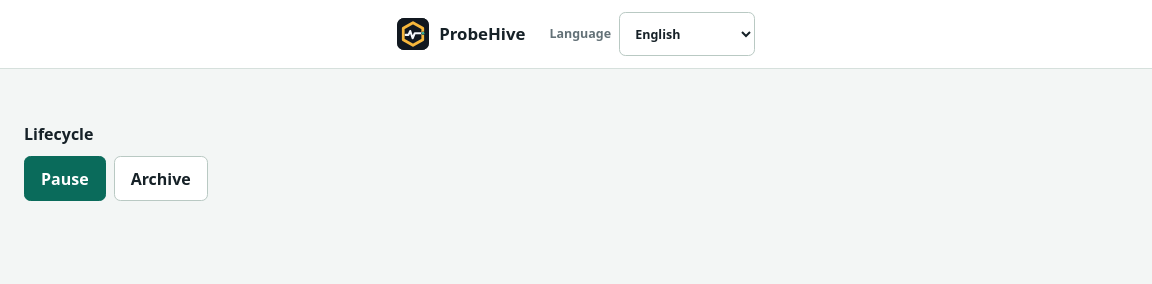
localizes authorization failures from the shared Problem Details catalog
The width and height of the screenshot is (1152, 284).
Click the button "Pause". click: x=65, y=179
box: [24, 156, 106, 201]
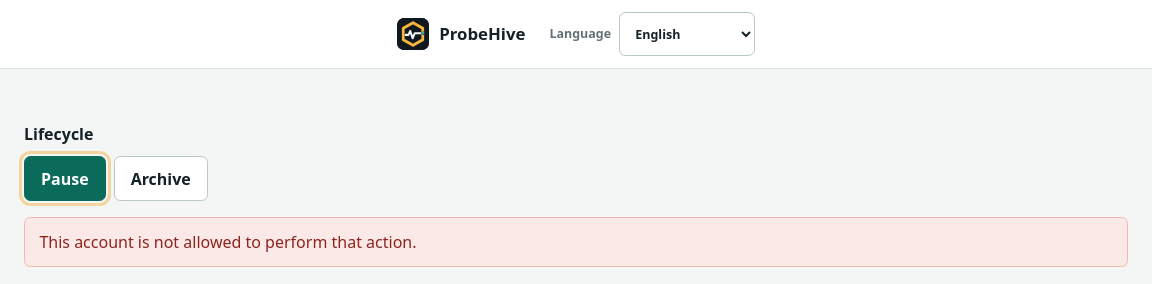
Expected: the text "This account is not allowed to perform that action." is shown, [24, 217, 1128, 267]
